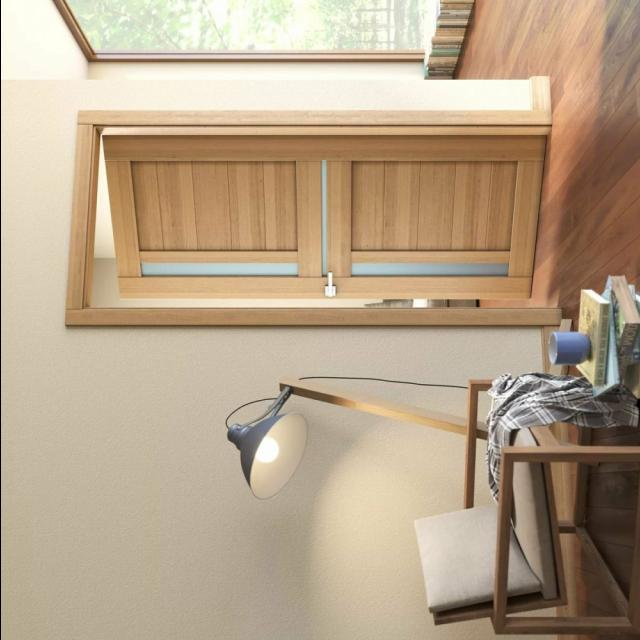open: (67, 110, 570, 326)
